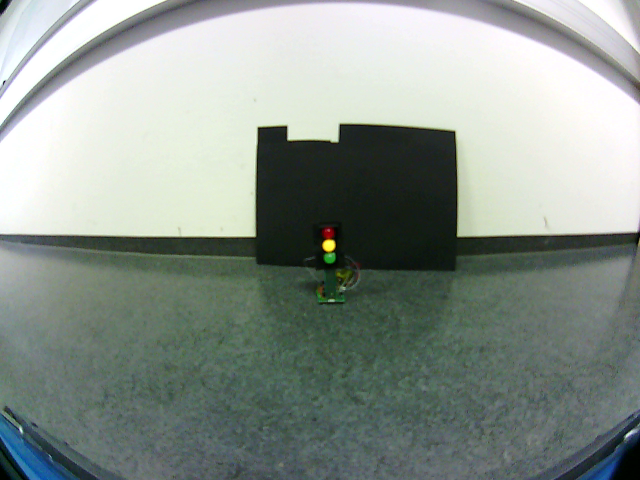yellow trafficlight: (319, 226, 339, 268)
